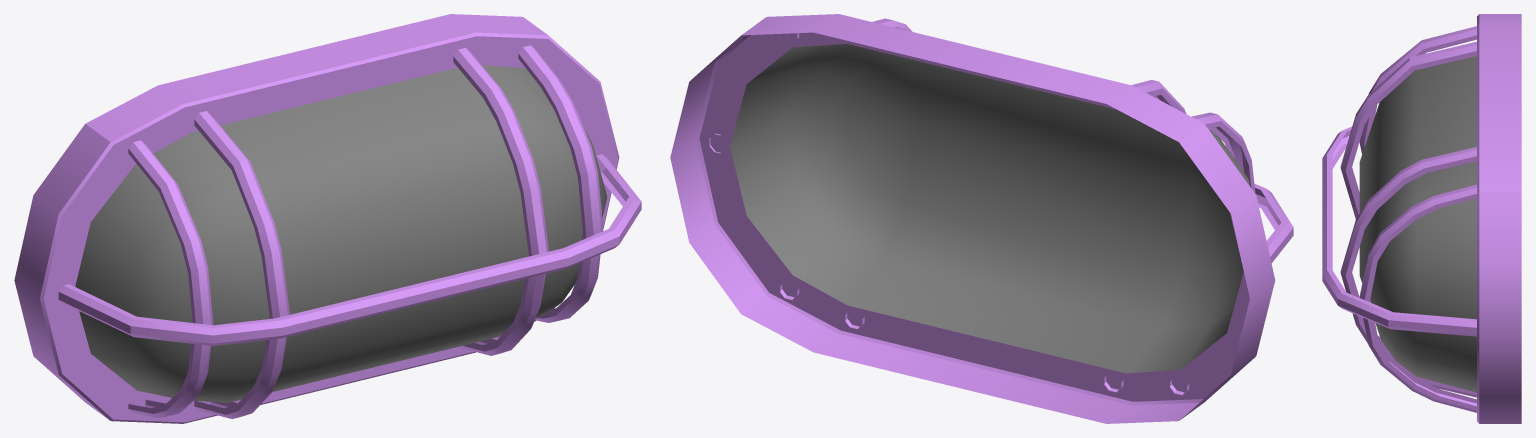
Rendered from light_.fbx.
The picture shows the model from 3 angles, left to right: view 1: azimuth 30°, elevation 25°; view 2: azimuth 150°, elevation 25°; view 3: azimuth 270°, elevation 25°; orthographic projection. The views are drawn at different scales.
Visible parts, largest first — view 1: light; view 2: light; view 3: light.
Boxes of the visible parts, x1,y1,x2,y2 form: light: [14, 14, 641, 423]; light: [670, 14, 1293, 423]; light: [1322, 14, 1521, 423].
Bounding box in the file's own units: 47.5 × 25.05 × 16.97.
